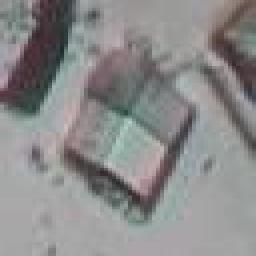crystals: (62, 46, 206, 219)
